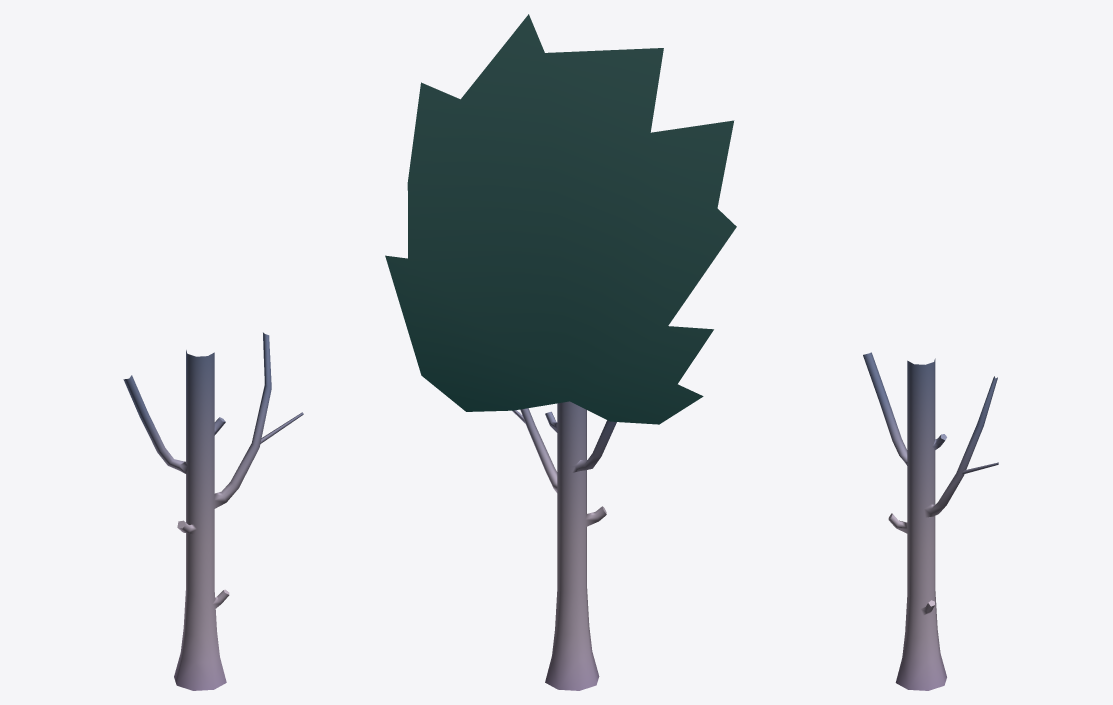
File: prop_tall-tree_02.glb
The picture shows the model from 3 angles, left to right: view 1: azimuth 30°, elevation 25°; view 2: azimuth 150°, elevation 25°; view 3: azimuth 330°, elevation 25°; orthographic projection. The views are drawn at different scales.
Visible parts, largest first — view 1: prop_tall-tree_02; view 2: prop_tall-tree_02; view 3: prop_tall-tree_02.
Boxes of the visible parts, x1,y1,x2,y2 form: prop_tall-tree_02: (123, 332, 303, 690); prop_tall-tree_02: (385, 14, 736, 690); prop_tall-tree_02: (863, 352, 998, 690).
Bounding box in the file's own units: 32.89 × 59.66 × 4.55.
